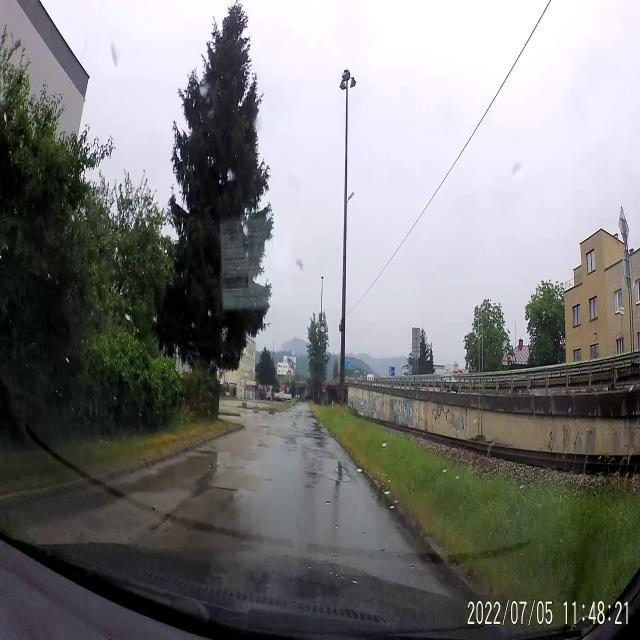Pothole: (324, 470, 354, 492), (208, 479, 241, 499)
